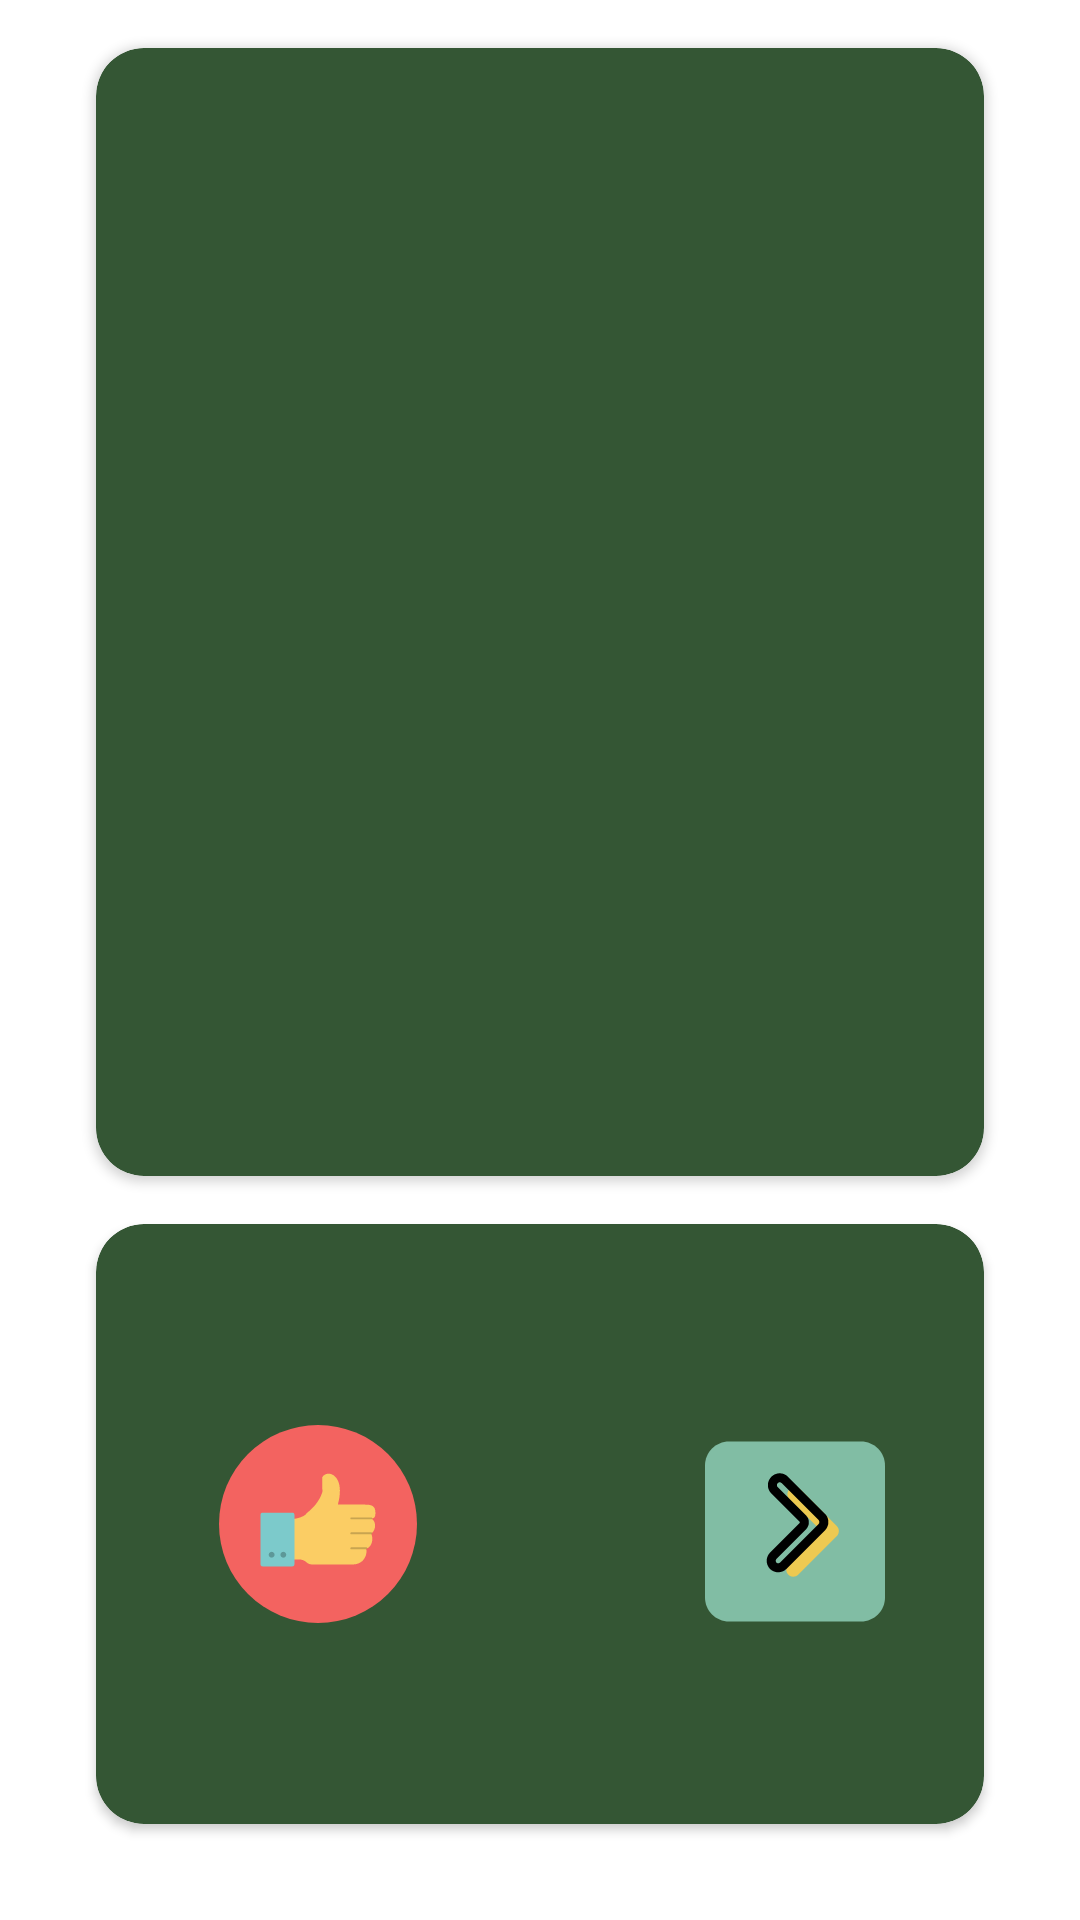

Screen size 1080 × 1920. Icon name, then its box in pixels as [x1=x1, y1=y1, x2=x2, y2=y2]:
like: [x1=219, y1=1425, x2=417, y2=1623]
next: [x1=705, y1=1441, x2=885, y2=1622]
